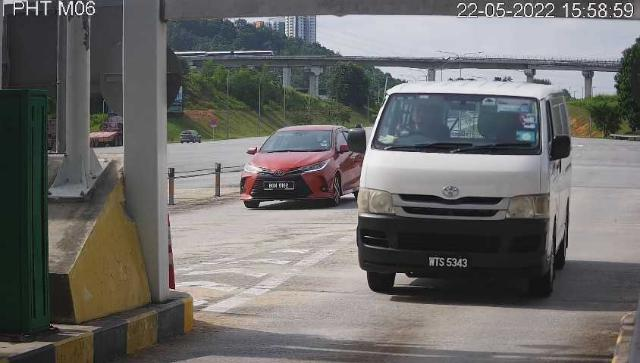License_Plate: (424, 252, 472, 275)
van: (357, 82, 573, 301)
